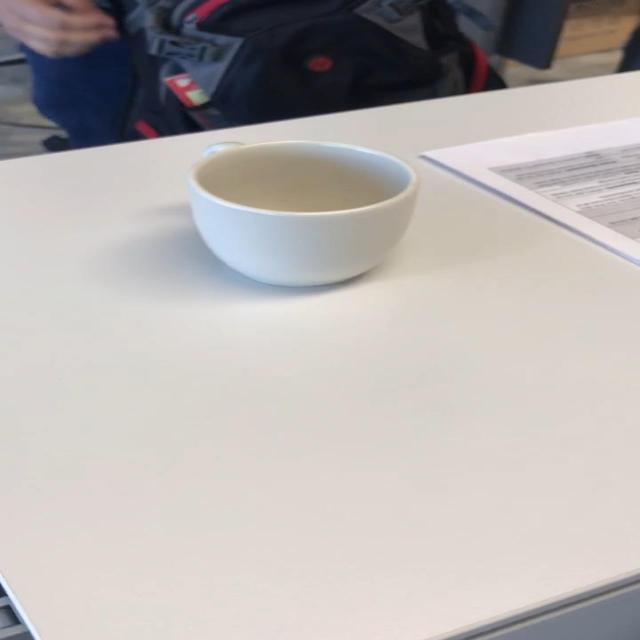cup: (189, 139, 418, 289)
